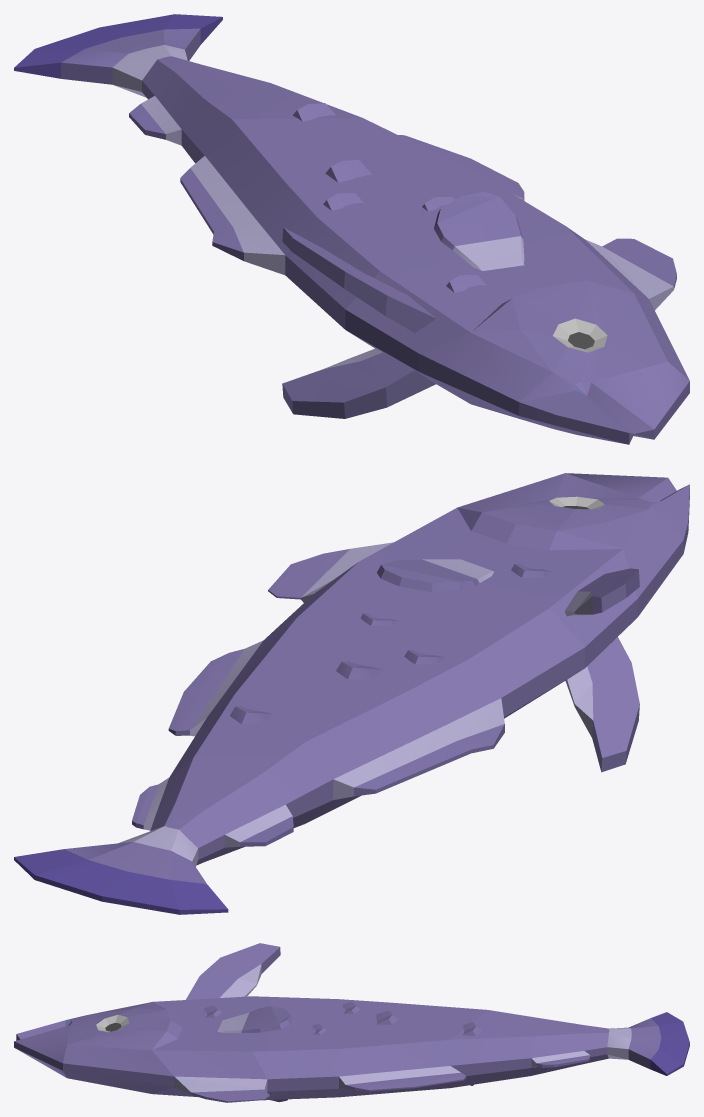
The model's file is fish_10.FBX.
3 views of the same model, one above another, from view 1: azimuth 30°, elevation 25°; view 2: azimuth 150°, elevation 25°; view 3: azimuth 270°, elevation 25° (orthographic). The views are drawn at different scales.
Parts seen in each view (by area): view 1: fish_10; view 2: fish_10; view 3: fish_10.
Boxes of the visible parts, x1,y1,x2,y2 form: fish_10: [14, 14, 689, 444]; fish_10: [14, 473, 689, 914]; fish_10: [14, 943, 689, 1102].
Size of the model in its own units: 17.72 by 8.42 by 47.99.
